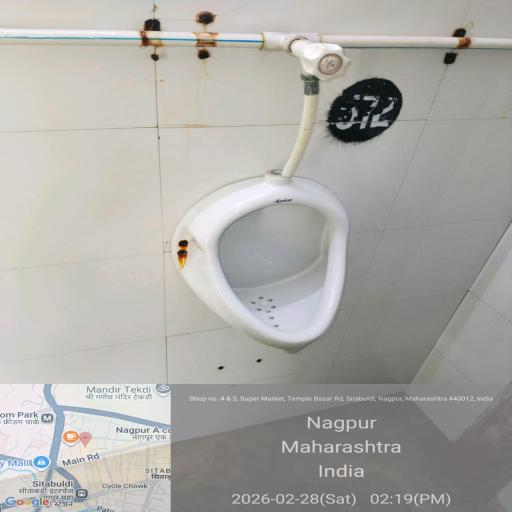clean_floor: (8, 16, 510, 161), (51, 352, 470, 512)
clean_urinal: (120, 146, 376, 376)
